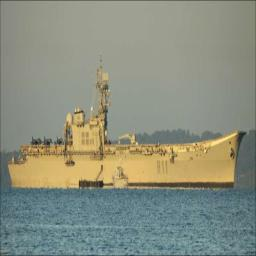Portanaves: (7, 52, 250, 193)
